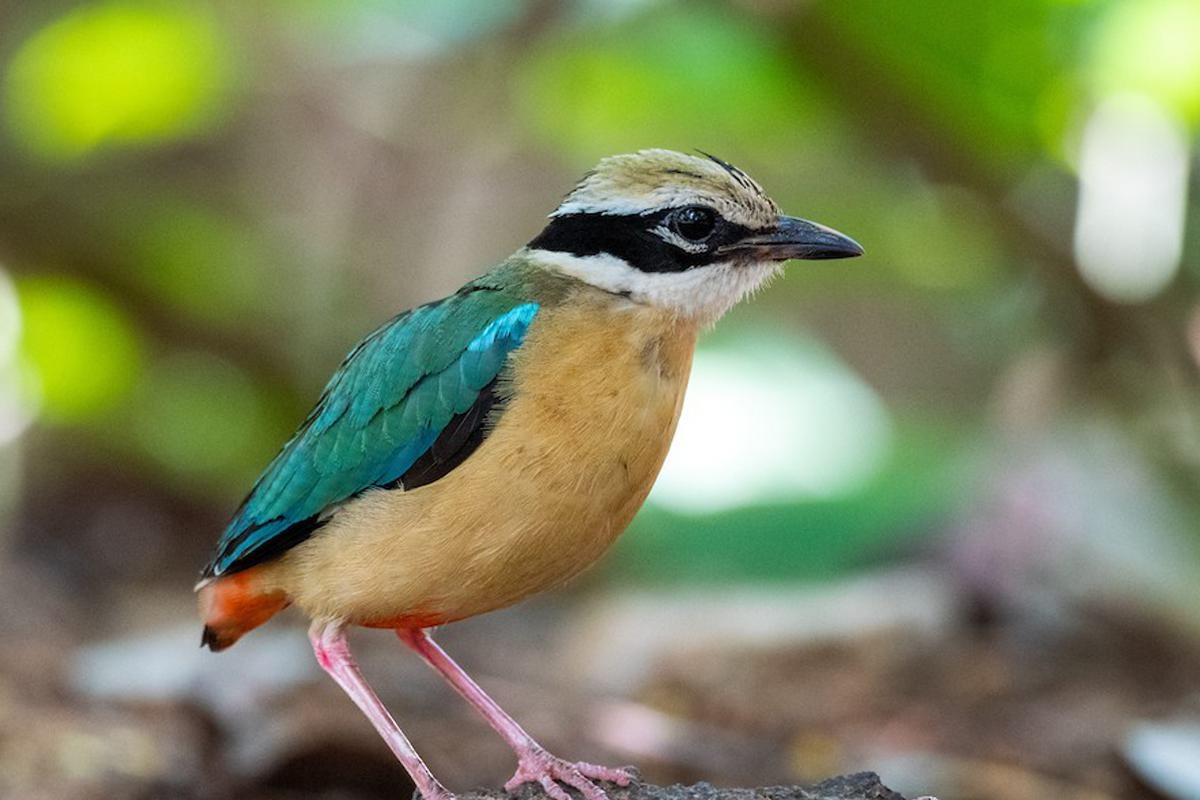pitta: (216, 122, 885, 798)
